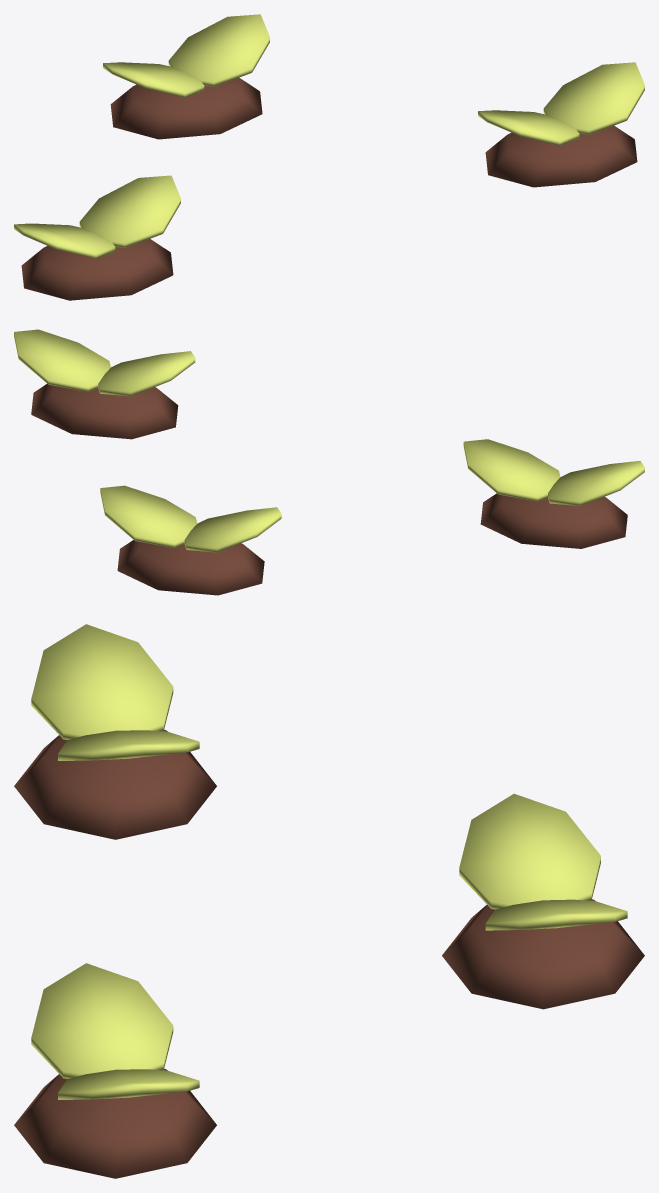
Rendered from stage_1_sprout.glb.
3 renders of one model, top to bottom at view 1: azimuth 30°, elevation 25°; view 2: azimuth 150°, elevation 25°; view 3: azimuth 270°, elevation 25°, orthographic. The views are drawn at different scales.
Visible parts, largest first — view 1: 土丘.005, 土丘.004, 土丘.003, 子叶, 子叶.004, 子叶.002, 子叶.005, 子叶.003, 子叶.001; view 2: 土丘.003, 土丘.004, 土丘.005, 子叶.002, 子叶.004, 子叶, 子叶.005, 子叶.001, 子叶.003; view 3: 土丘.003, 土丘.004, 土丘.005, 子叶.003, 子叶.001, 子叶.005, 子叶.004, 子叶, 子叶.002.
Boxes of the visible parts, box(x1,y1,x2,y2) form: 土丘.005: box(110, 77, 262, 139); 土丘.004: box(485, 125, 637, 187); 土丘.003: box(21, 239, 173, 300); 子叶: box(79, 175, 180, 247); 子叶.004: box(168, 14, 269, 86); 子叶.002: box(543, 62, 644, 134); 子叶.005: box(103, 62, 204, 97); 子叶.003: box(478, 110, 579, 145); 子叶.001: box(14, 223, 115, 258); 土丘.003: box(480, 493, 627, 548); 土丘.004: box(31, 383, 178, 439); 土丘.005: box(117, 540, 264, 595); 子叶.002: box(14, 329, 110, 391); 子叶.004: box(100, 485, 197, 548); 子叶: box(463, 439, 560, 501); 子叶.005: box(184, 507, 281, 552); 子叶.001: box(548, 461, 644, 506); 子叶.003: box(98, 351, 195, 396); 土丘.003: box(14, 729, 216, 839); 土丘.004: box(14, 1068, 216, 1178); 土丘.005: box(442, 899, 644, 1009); 子叶.003: box(31, 963, 173, 1078); 子叶.001: box(31, 624, 173, 739); 子叶.005: box(459, 793, 600, 909); 子叶.004: box(485, 899, 627, 930); 子叶: box(58, 730, 199, 760); 子叶.002: box(58, 1069, 199, 1099).
Size of the model in its own units: 0.8168 by 0.0832 by 0.472.
1 material, 1 textured.
